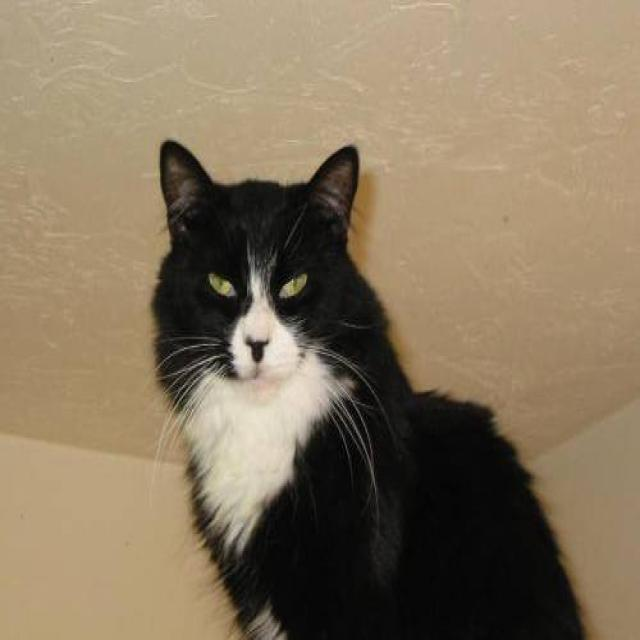cat: (148, 137, 594, 638)
